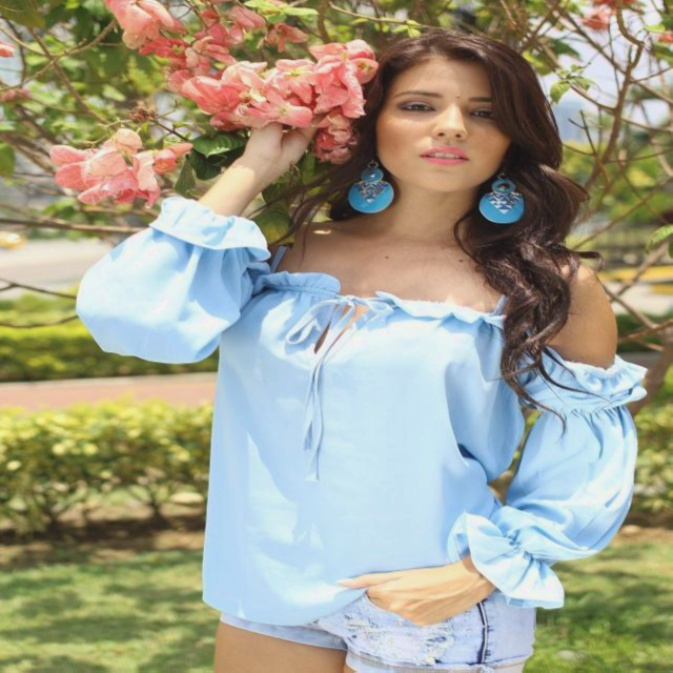Shorts: (201, 525, 543, 673)
Sleeveless: (516, 243, 625, 367)
low_neckline: (197, 221, 524, 623)
